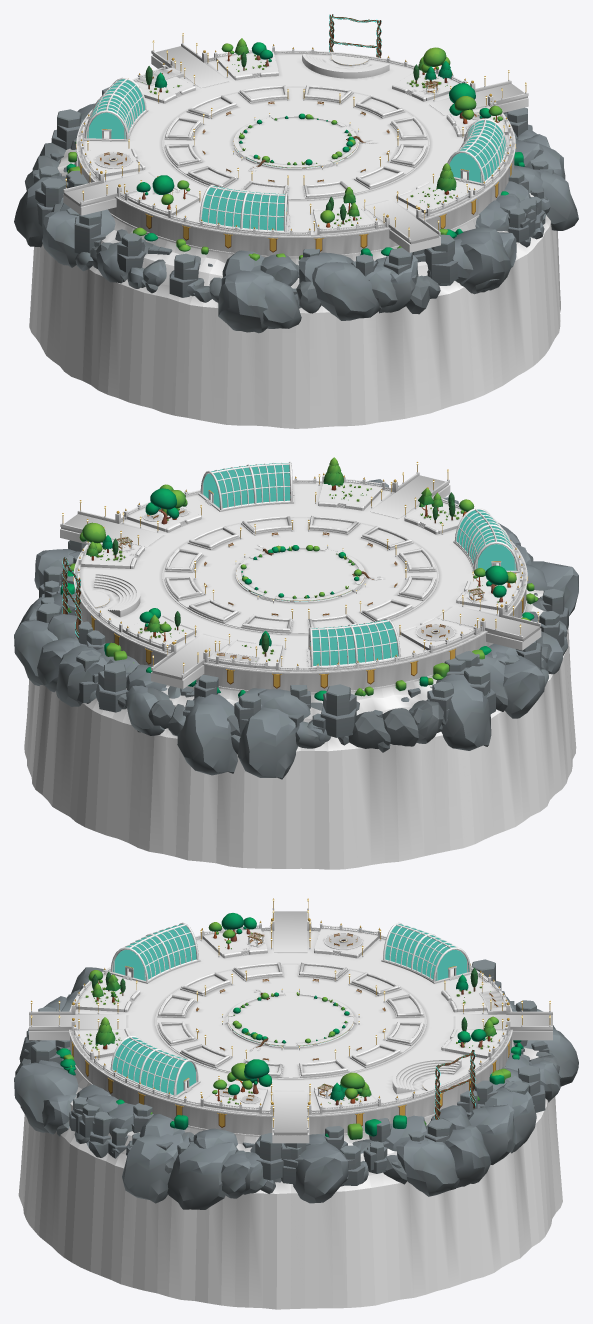
File: praca-central-leve.glb
3 renders of one model, top to bottom at view 1: azimuth 30°, elevation 25°; view 2: azimuth 150°, elevation 25°; view 3: azimuth 270°, elevation 25°, orthographic. The views are drawn at different scales.
Visible parts, largest first — view 1: paredao, piso_externo, piso_interno, muro_borda, jardim_grama, Rock_3_J_Color1.027, Rock_3_J_Color1.037, estufa_vidro_225, Rock_3_J_Color1.030, estufa_vidro_315, estufa_vidro_135, Rock_3_J_Color1.026 (+36 smaller); view 2: paredao, piso_externo, piso_interno, muro_borda, jardim_grama, Rock_3_J_Color1.025, Rock_3_J_Color1.035, Rock_3_J_Color1.036, estufa_vidro_135, estufa_vidro_315, estufa_vidro_225, Rock_3_J_Color1.026 (+39 smaller); view 3: paredao, piso_externo, piso_interno, muro_borda, jardim_grama, Rock_3_J_Color1.032, Rock_3_J_Color1.031, Rock_3_J_Color1.022, estufa_vidro_315, Rock_3_J_Color1.021, estufa_vidro_225, Rock_3_J_Color1.030 (+35 smaller).
Part boxes in pixels (box(x1,y1,x2,y2)): paredao: box(29, 148, 560, 428); piso_externo: box(82, 54, 509, 235); piso_interno: box(164, 87, 427, 199); muro_borda: box(77, 52, 514, 256); jardim_grama: box(238, 117, 352, 165); Rock_3_J_Color1.027: box(312, 262, 379, 320); Rock_3_J_Color1.037: box(218, 270, 275, 333); estufa_vidro_225: box(201, 186, 286, 230); Rock_3_J_Color1.030: box(453, 227, 511, 293); estufa_vidro_315: box(449, 120, 505, 182); estufa_vidro_135: box(87, 79, 144, 138); Rock_3_J_Color1.026: box(42, 210, 79, 267); paredao: box(24, 585, 576, 869); piso_externo: box(79, 482, 521, 669); piso_interno: box(164, 518, 436, 633); muro_borda: box(74, 481, 526, 692); jardim_grama: box(241, 548, 358, 598); Rock_3_J_Color1.025: box(177, 694, 237, 775); Rock_3_J_Color1.035: box(238, 707, 297, 779); Rock_3_J_Color1.036: box(436, 674, 491, 750); estufa_vidro_135: box(310, 620, 398, 665); estufa_vidro_315: box(203, 463, 290, 508); estufa_vidro_225: box(456, 509, 516, 570); Rock_3_J_Color1.026: box(503, 655, 544, 718); paredao: box(18, 1044, 562, 1309); piso_externo: box(73, 931, 506, 1113); piso_interno: box(157, 964, 424, 1078); muro_borda: box(69, 929, 512, 1135); jardim_grama: box(232, 994, 349, 1044); Rock_3_J_Color1.032: box(167, 1142, 238, 1209); Rock_3_J_Color1.031: box(122, 1133, 183, 1203); Rock_3_J_Color1.022: box(396, 1137, 459, 1196); estufa_vidro_315: box(112, 1037, 196, 1095); Rock_3_J_Color1.021: box(293, 1141, 348, 1203); estufa_vidro_225: box(113, 924, 196, 980); Rock_3_J_Color1.030: box(14, 1062, 78, 1132).
Bounding box in the file's own units: 202 × 82.83 × 203.
Materials: 99 (31 with a texture image).
